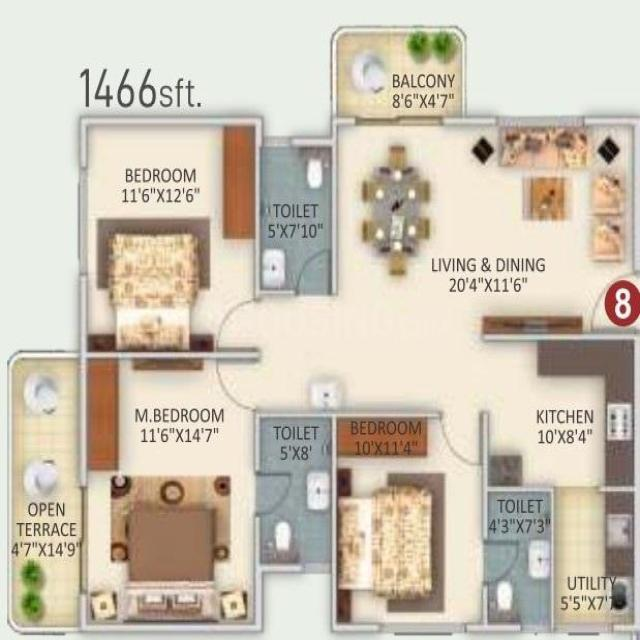Balcony-Sitout: (11, 357, 82, 629), (336, 29, 463, 118)
Bedroom: (85, 121, 257, 352)
Bedroom with Toilet: (84, 355, 333, 629), (335, 415, 552, 628)
Dining: (358, 142, 439, 277)
Enterance-Foyer: (588, 268, 639, 329)
Kitchen: (486, 337, 636, 489)
Living: (465, 122, 636, 333)
Toilet: (259, 417, 331, 563), (261, 146, 331, 292), (487, 490, 552, 624)
Utility: (553, 489, 636, 629)
